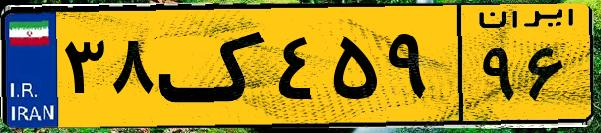3: (57, 26, 110, 100)
4: (270, 28, 330, 110)
5: (330, 28, 385, 110)
6: (525, 38, 570, 115)
8: (110, 28, 158, 98)
9: (385, 28, 445, 110), (475, 38, 525, 113)
ک: (158, 12, 270, 120)
